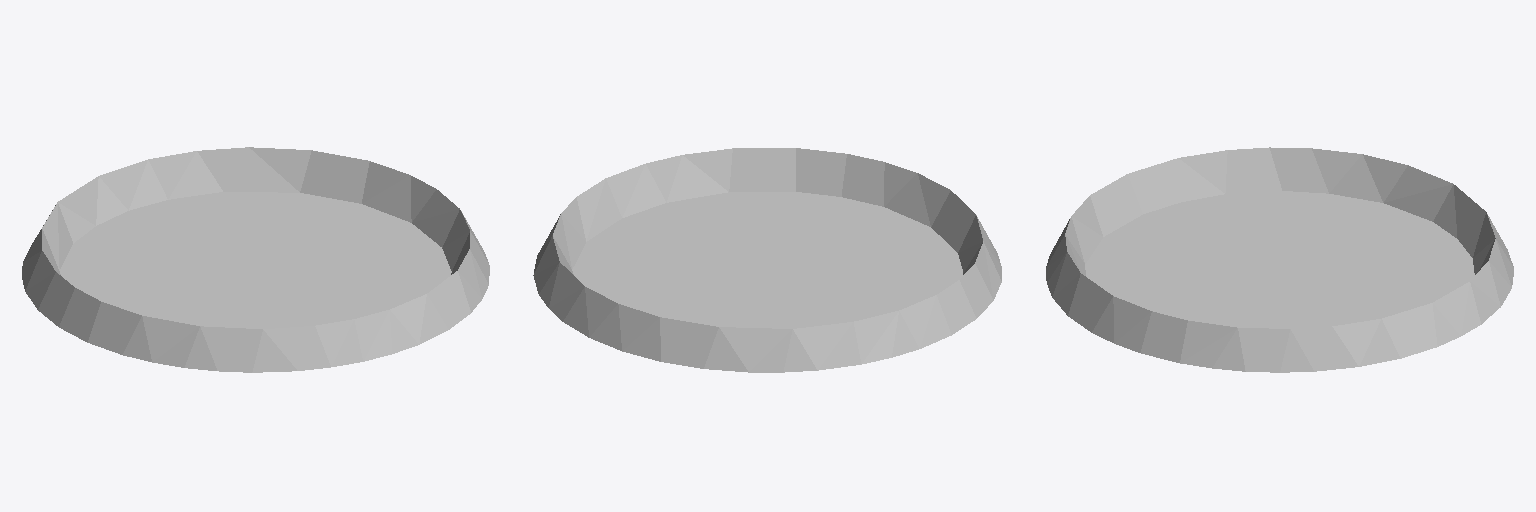
File: level_mask.obj
3 renders of one model, left to right at view 1: azimuth 30°, elevation 25°; view 2: azimuth 150°, elevation 25°; view 3: azimuth 270°, elevation 25°, orthographic.
Bounding box in the file's own units: 24 × 2 × 24.